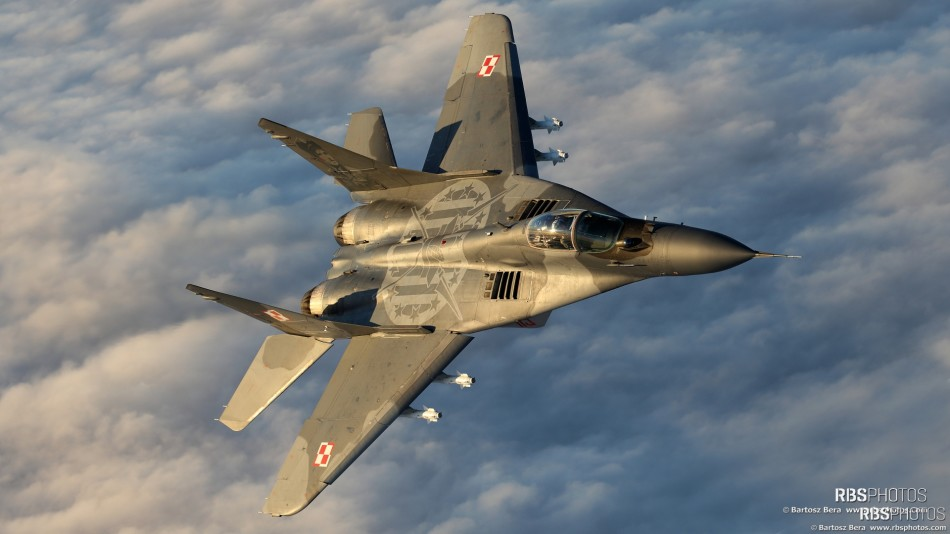airplane: (179, 11, 803, 517)
